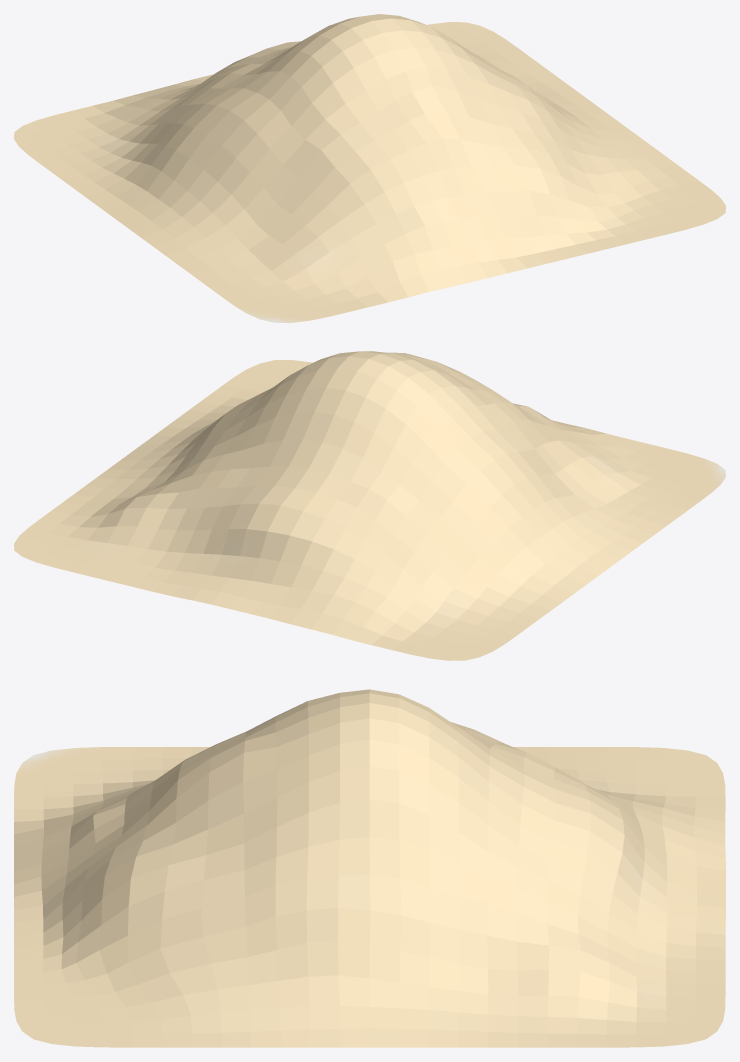
File: SandMound.fbx
3 views of the same model, one above another, from view 1: azimuth 30°, elevation 25°; view 2: azimuth 150°, elevation 25°; view 3: azimuth 270°, elevation 25° (orthographic). The views are drawn at different scales.
Visible parts, largest first — view 1: SandMound.001; view 2: SandMound.001; view 3: SandMound.001.
Part boxes in pixels (x1,y1,x2,y2): SandMound.001: (14,14,725,322); SandMound.001: (14,351,725,660); SandMound.001: (14,689,725,1047).
Size of the model in its own units: 1167 by 353 by 1168.
